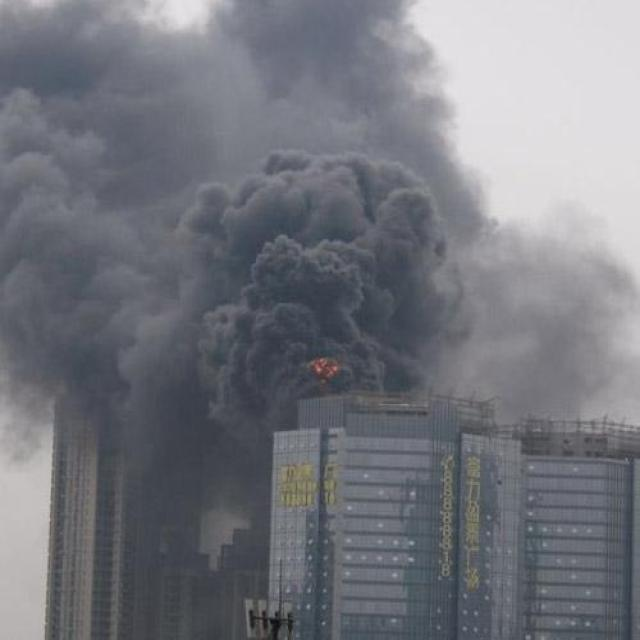Fire: (311, 357, 338, 380)
Smoke: (1, 1, 639, 516)
